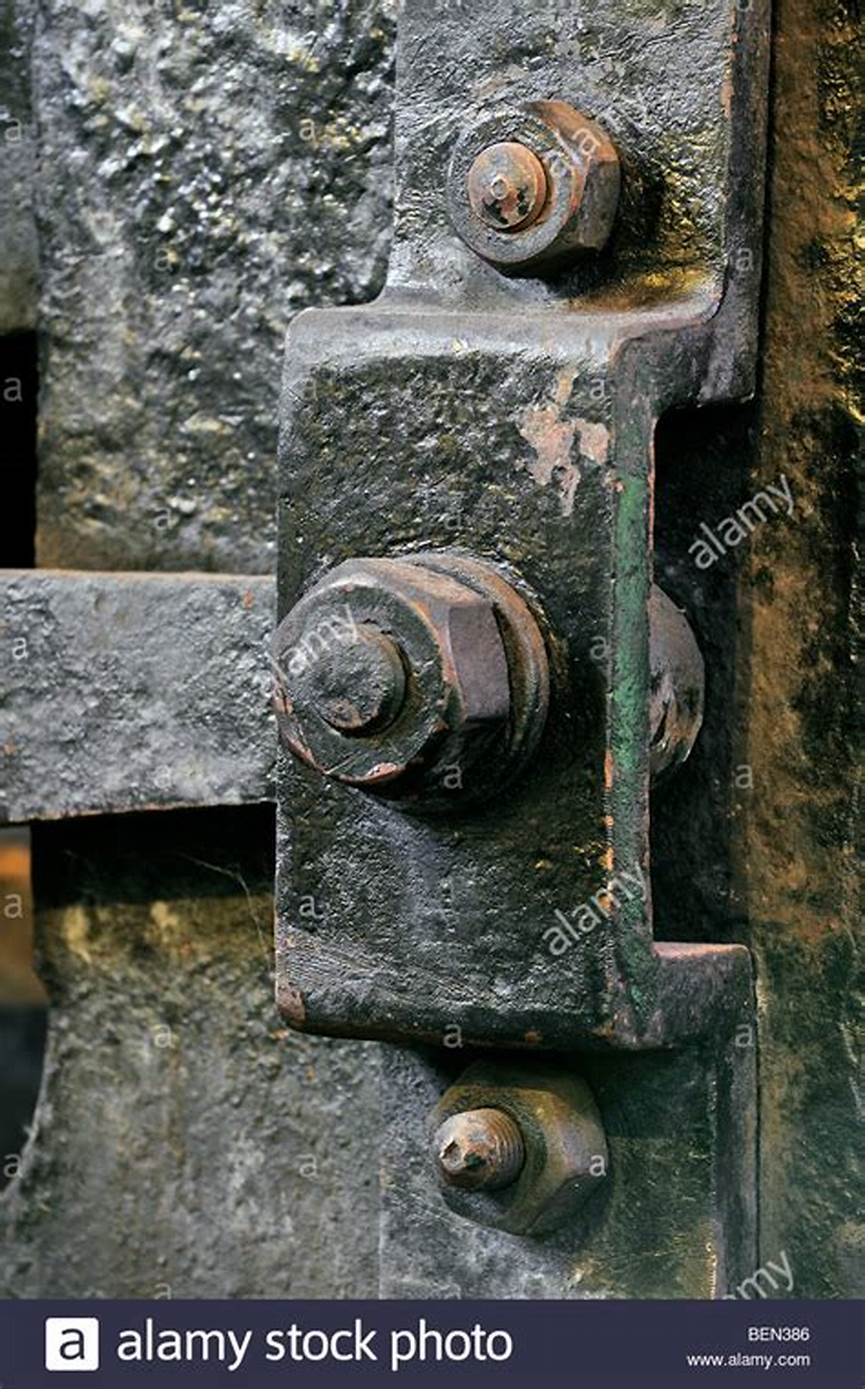bolt_b: (267, 559, 510, 811), (416, 1049, 619, 1245), (445, 103, 622, 282)
